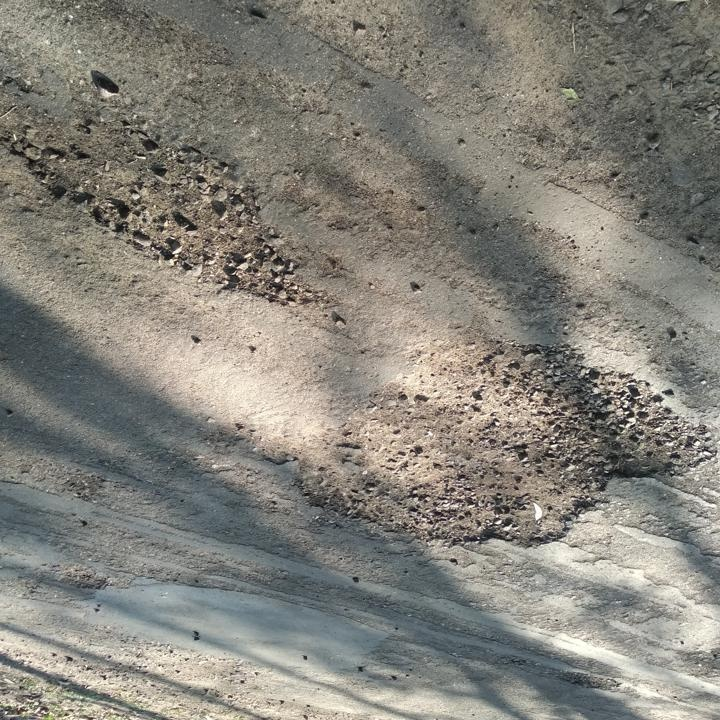pothole: (273, 337, 715, 555), (0, 113, 326, 309)
